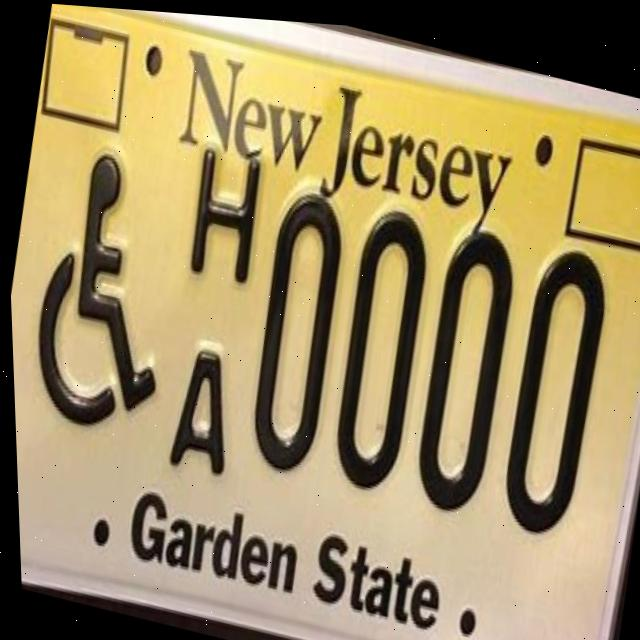symbol_of_access: (15, 140, 196, 446)
